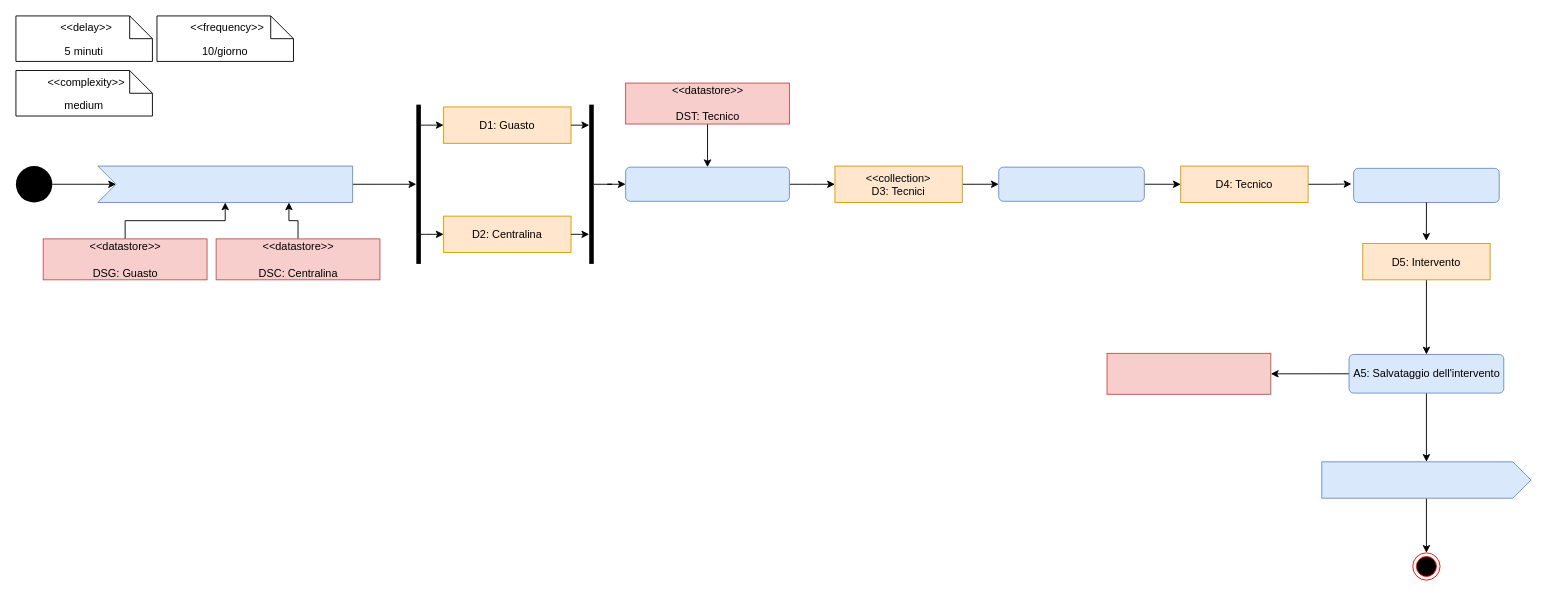
Some shapes in this 1547 by 596 pixel diagram are drawn without their labels. The box of each missing label's shape, as (x1, y1, x2, y2) in pixels:
<<datastore>> DSI: Intervento: (1106, 352, 1271, 394)
A1: Ricevi richiesta selezione tecnico: (97, 165, 353, 202)
A2: Recupero informazioni tecnici: (625, 166, 789, 201)
A3: Selezione del tecnico: (998, 166, 1144, 201)
A4: Creazione dell'intervento: (1353, 167, 1499, 202)
A6: Notifica creazione intervento: (1321, 461, 1531, 498)
